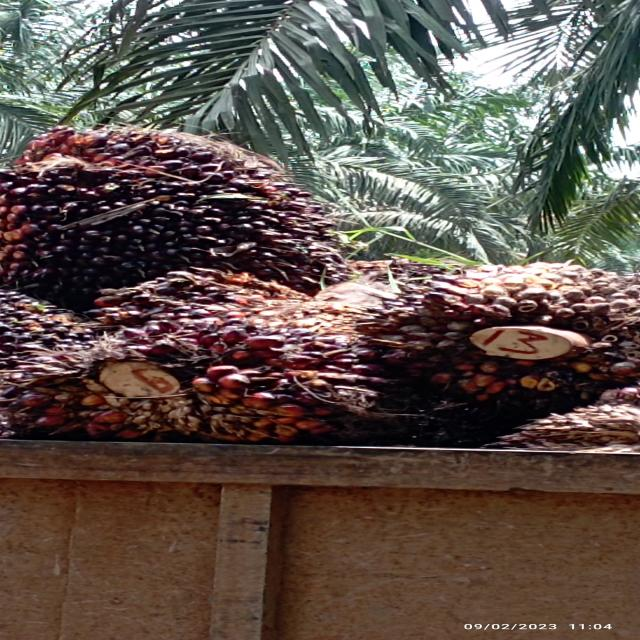fraksi 00: (0, 83, 348, 278)
fraksi 1: (25, 307, 372, 425)
